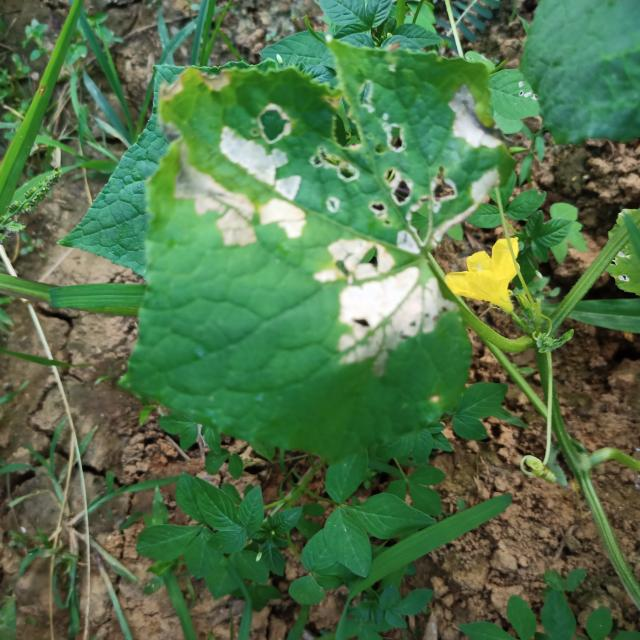disease_cucumber: (155, 66, 504, 252), (309, 224, 451, 381)
